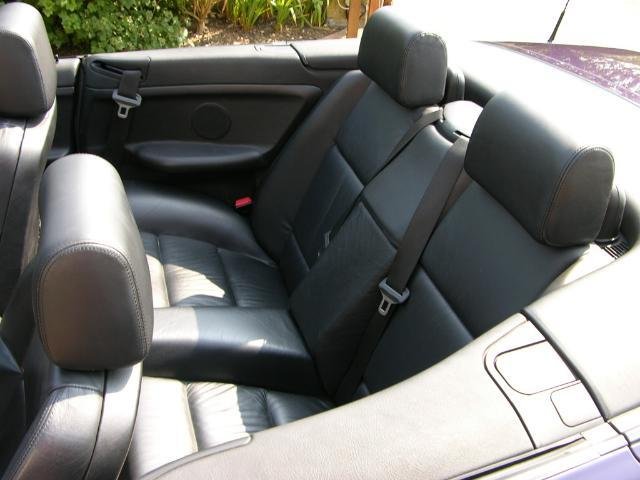Seatbelt: (331, 134, 469, 404), (308, 101, 447, 259), (98, 66, 144, 162)
